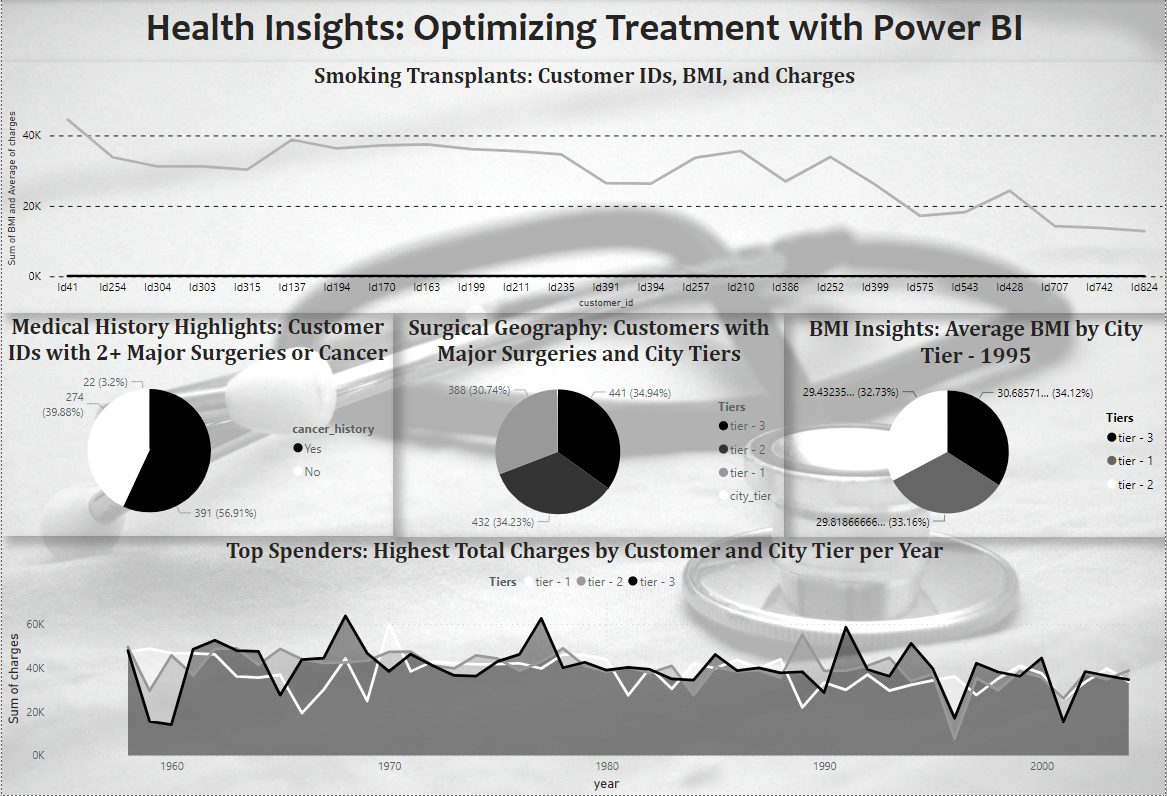

Layout of this report page (visuals, bound fields, positions):
{"tool":"powerbi","page":{"name":"Dashboard 2","canvas":[1280,875],"ordinal":1},"visuals":[{"type":"textbox","box":[0,0,1280.2,68.7],"z":0},{"type":"lineChart","title":"Smoking Transplants: Customer IDs, BMI, and Charges","fields":{"Y":["Sum(5.BMI)","Avg(5.charges)"],"Category":["5.customer_id"]},"box":[0,68.7,1280.2,276.1],"z":1000},{"type":"pieChart","title":"Medical History Highlights: Customer IDs with 2+ Major Surgeries or Cancer","fields":{"Category":["6.cancer_history"],"Y":["CountNonNull(6.customer_id)"],"Series":["6.number of major surgeries"]},"box":[0,344.8,429.9,245.9],"z":2000},{"type":"pieChart","title":"Surgical Geography: Customers with Major Surgeries and City Tiers","fields":{"Category":["9.Column2"],"Y":["CountNonNull(9.Column1)"]},"box":[429.9,346.2,429.9,245.9],"z":3000},{"type":"pieChart","title":"BMI Insights: Average BMI by City Tier - 1995","fields":{"Category":["10.city_tier"],"Y":["Sum(10.avg_bmi)"]},"box":[859.9,347.5,420.3,243.1],"z":4000},{"type":"areaChart","title":"Top Spenders: Highest Total Charges by Customer and City Tier per Year","fields":{"Category":["12.year"],"Y":["Sum(12.charges)"],"Series":["12.city_tier"]},"box":[0,590.7,1280.2,284.3],"z":5000}]}

Visuals, with their boxes in screenshot pixels (x1, y1, x2, y2), scaled from the page's 1280x875 canvas onto the 1167x796 screenshot:
textbox: box(0, 0, 1166, 62)
"Smoking Transplants: Customer IDs, BMI, and Charges" lineChart: box(0, 62, 1166, 314)
"Medical History Highlights: Customer IDs with 2+ Major Surgeries or Cancer" pieChart: box(0, 314, 392, 537)
"Surgical Geography: Customers with Major Surgeries and City Tiers" pieChart: box(392, 315, 784, 539)
"BMI Insights: Average BMI by City Tier - 1995" pieChart: box(784, 316, 1166, 537)
"Top Spenders: Highest Total Charges by Customer and City Tier per Year" areaChart: box(0, 537, 1166, 795)
